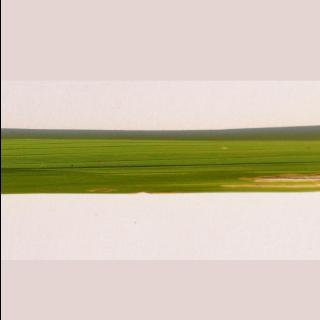Hawar-Daun: (214, 171, 320, 195), (80, 178, 116, 198)
